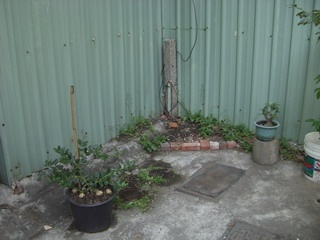bucket: (303, 130, 320, 183)
